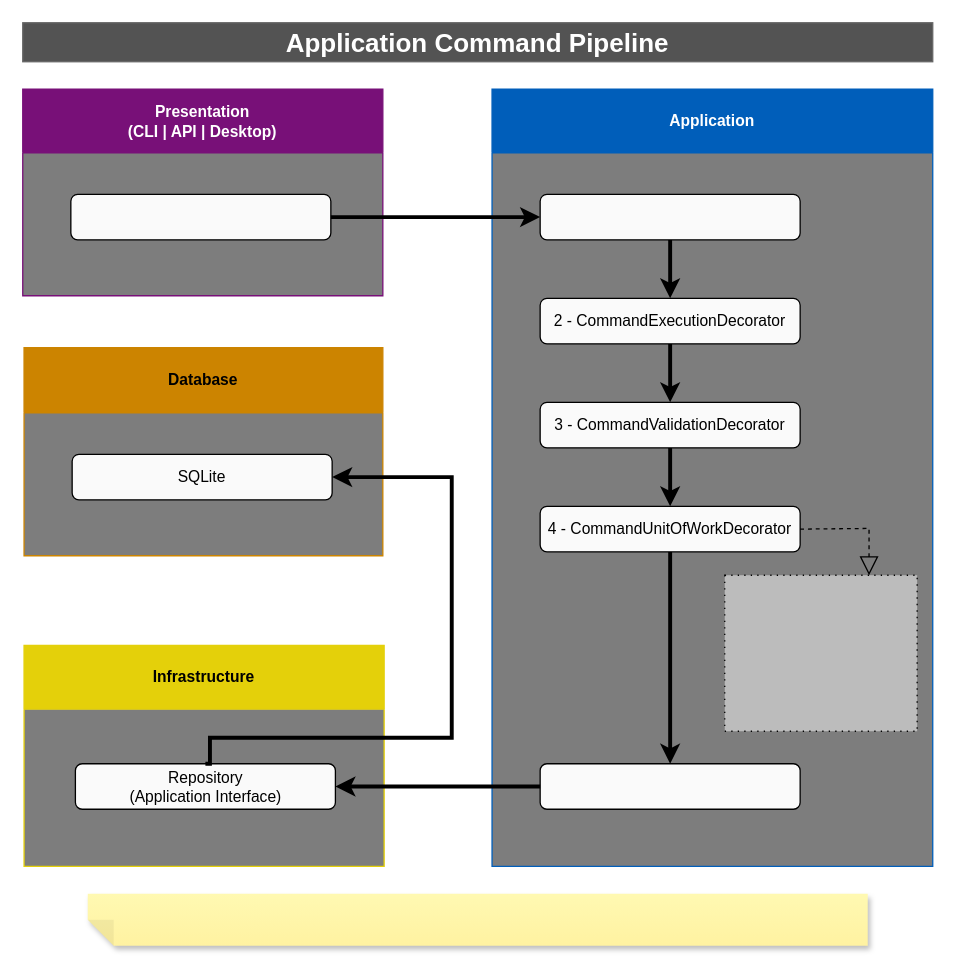
Some shapes in this 955 by 978 pixel diagram are drawn without their labels. Each missing label, with the centre of its shape:
1 - CommandDispatcher: the point at 669,216
5 - CommandHandler: the point at 669,785
Command Request: the point at 200,216
Solid Arrow = Execution Flow Dashed Line = Annotation: the point at 478,921
Transaction Scope • Begin • Commit on Success • Rollback on Exception: the point at 820,652
